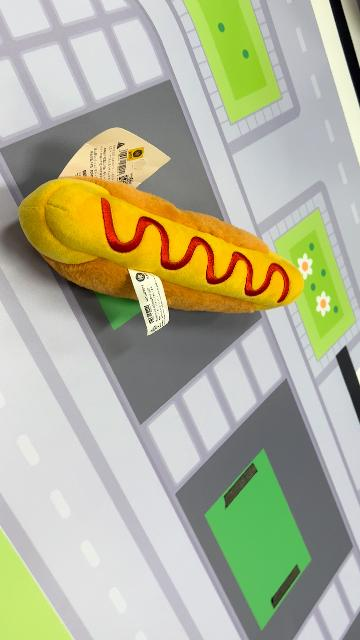hotdog: (18, 176, 306, 316)
